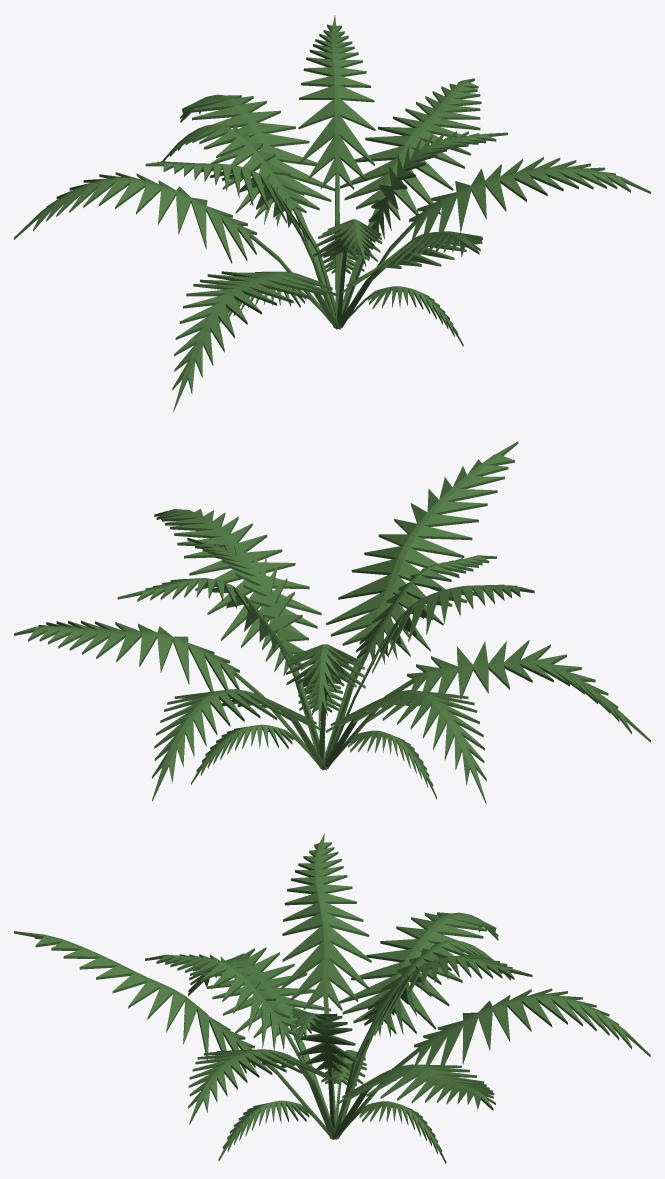
File: Paporotnic4.fbx
3 views of the same model, one above another, from view 1: azimuth 30°, elevation 25°; view 2: azimuth 150°, elevation 25°; view 3: azimuth 270°, elevation 25° (orthographic). The views are drawn at different scales.
Visible parts, largest first — view 1: Paporotnic; view 2: Paporotnic; view 3: Paporotnic.
Boxes of the visible parts, x1,y1,x2,y2 form: Paporotnic: (14,15,650,412); Paporotnic: (14,441,650,803); Paporotnic: (14,834,650,1163).
Size of the model in its own units: 220 by 95.1 by 260.
